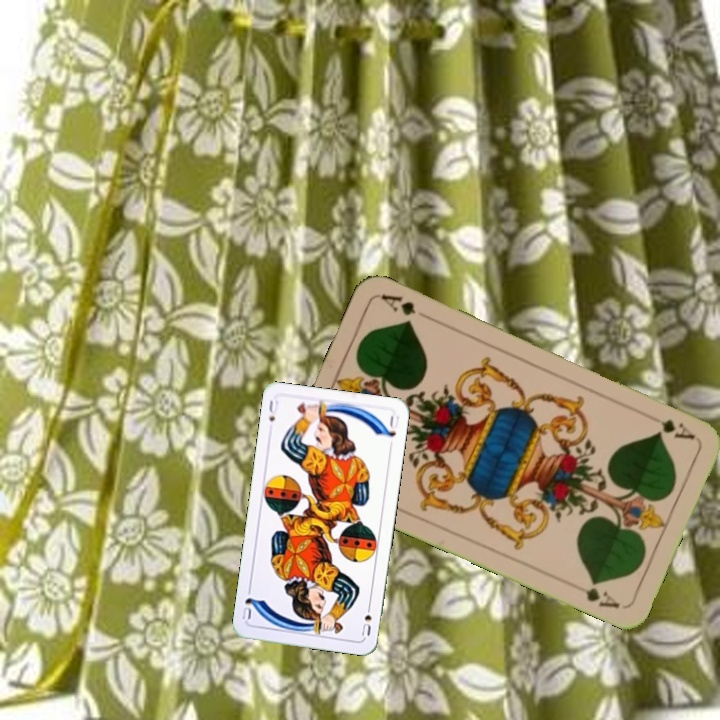GA: (656, 415, 698, 443)
SU: (358, 599, 374, 638), (264, 396, 281, 424)
